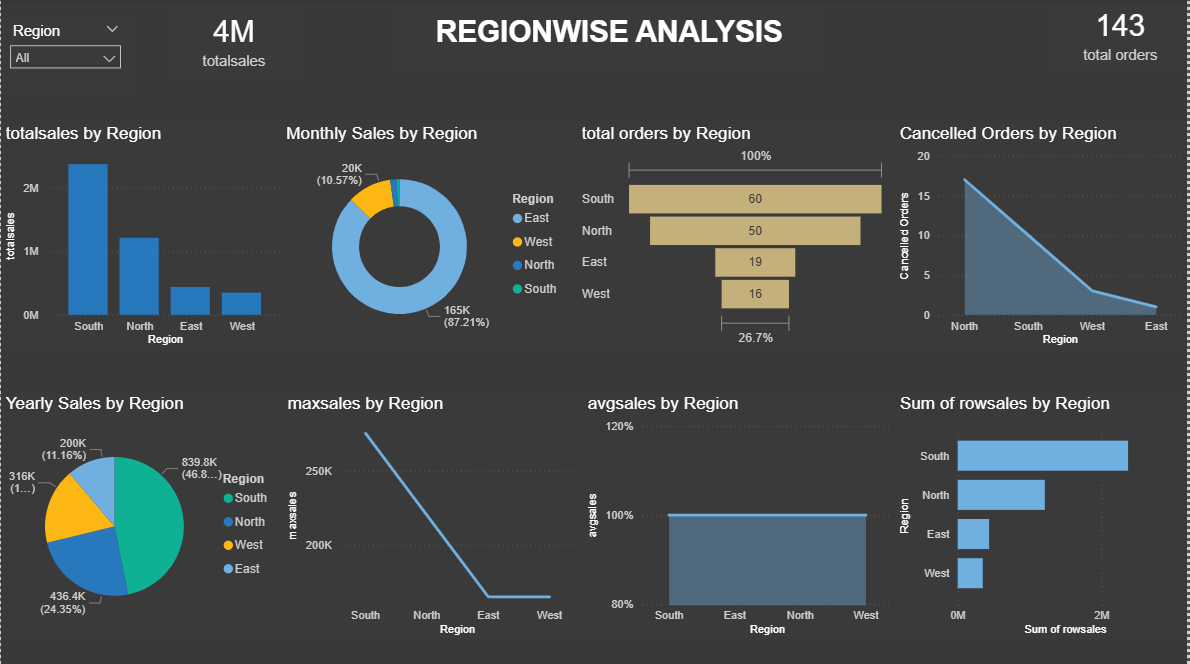

The page's visual inventory and layout, read from the dashboard file:
{"tool":"powerbi","page":{"name":"REGION","canvas":[1280,720],"ordinal":0},"visuals":[{"type":"card","fields":{"Values":["DATA ANALYST.totalsales"]},"box":[181.4,0,139.3,85.8],"z":0},{"type":"columnChart","fields":{"Category":["DATA ANALYST.Region"],"Y":["DATA ANALYST.totalsales"]},"box":[0,134.4,309.3,244.5],"z":1000},{"type":"lineChart","fields":{"Category":["DATA ANALYST.Region"],"Y":["DATA ANALYST.maxsales"]},"box":[304.4,425.9,319,265.6],"z":2000},{"type":"slicer","fields":{"Values":["DATA ANALYST.Region"]},"box":[0,19.4,139.3,82.6],"z":3000},{"type":"pieChart","fields":{"Category":["DATA ANALYST.Region"],"Y":["DATA ANALYST.Yearly Sales"]},"box":[0,425.9,309.3,265.6],"z":4000},{"type":"donutChart","fields":{"Category":["DATA ANALYST.Region"],"Y":["DATA ANALYST.Monthly Sales"]},"box":[302.8,134.4,319,244.5],"z":5000},{"type":"hundredPercentStackedAreaChart","fields":{"Category":["DATA ANALYST.Region"],"Y":["DATA ANALYST.avgsales"]},"box":[628.3,425.9,338.4,265.6],"z":6000},{"type":"barChart","fields":{"Category":["DATA ANALYST.Region"],"Y":["Sum(DATA ANALYST.rowsales)"]},"box":[965.1,425.9,314.1,265.6],"z":7000},{"type":"funnel","fields":{"Category":["DATA ANALYST.Region"],"Y":["DATA ANALYST.total orders"]},"box":[621.8,134.4,338.4,244.5],"z":8000},{"type":"stackedAreaChart","fields":{"Category":["DATA ANALYST.Region"],"Y":["DATA ANALYST.Cancelled Orders"]},"box":[965.1,134.4,314.1,244.5],"z":9000},{"type":"textbox","box":[429.1,11.3,455,61.5],"z":10000},{"type":"card","fields":{"Values":["DATA ANALYST.total orders"]},"box":[1136.7,0,142.5,72.9],"z":11000}]}

Visuals, with their boxes in screenshot pixels (x1, y1, x2, y2), scaled from the page's 1280x720 canvas onto the 1190x664 screenshot:
card - DATA ANALYST.totalsales: {"x1": 169, "y1": 0, "x2": 298, "y2": 79}
columnChart - DATA ANALYST.Region x DATA ANALYST.totalsales: {"x1": 0, "y1": 124, "x2": 288, "y2": 349}
lineChart - DATA ANALYST.Region x DATA ANALYST.maxsales: {"x1": 283, "y1": 393, "x2": 580, "y2": 638}
slicer - DATA ANALYST.Region: {"x1": 0, "y1": 18, "x2": 130, "y2": 94}
pieChart - DATA ANALYST.Region x DATA ANALYST.Yearly Sales: {"x1": 0, "y1": 393, "x2": 288, "y2": 638}
donutChart - DATA ANALYST.Region x DATA ANALYST.Monthly Sales: {"x1": 282, "y1": 124, "x2": 578, "y2": 349}
hundredPercentStackedAreaChart - DATA ANALYST.Region x DATA ANALYST.avgsales: {"x1": 584, "y1": 393, "x2": 899, "y2": 638}
barChart - DATA ANALYST.Region x Sum(DATA ANALYST.rowsales): {"x1": 897, "y1": 393, "x2": 1189, "y2": 638}
funnel - DATA ANALYST.Region x DATA ANALYST.total orders: {"x1": 578, "y1": 124, "x2": 893, "y2": 349}
stackedAreaChart - DATA ANALYST.Region x DATA ANALYST.Cancelled Orders: {"x1": 897, "y1": 124, "x2": 1189, "y2": 349}
textbox: {"x1": 399, "y1": 10, "x2": 822, "y2": 67}
card - DATA ANALYST.total orders: {"x1": 1057, "y1": 0, "x2": 1189, "y2": 67}
